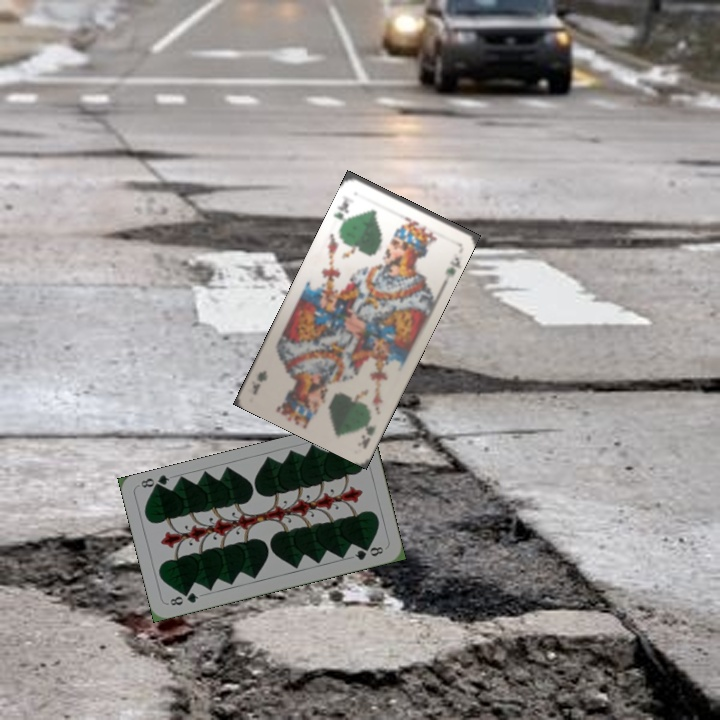G8: (166, 588, 201, 608)
GK: (330, 195, 352, 229), (354, 421, 378, 451)
